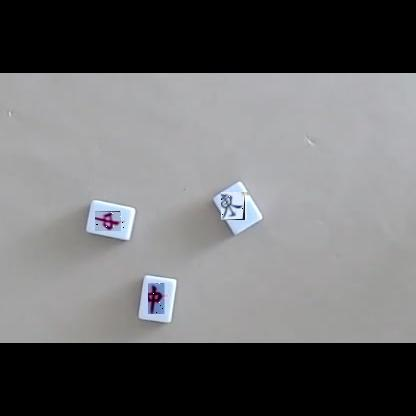1z: (222, 192, 250, 220)
7z: (149, 283, 168, 314), (96, 211, 125, 231)
